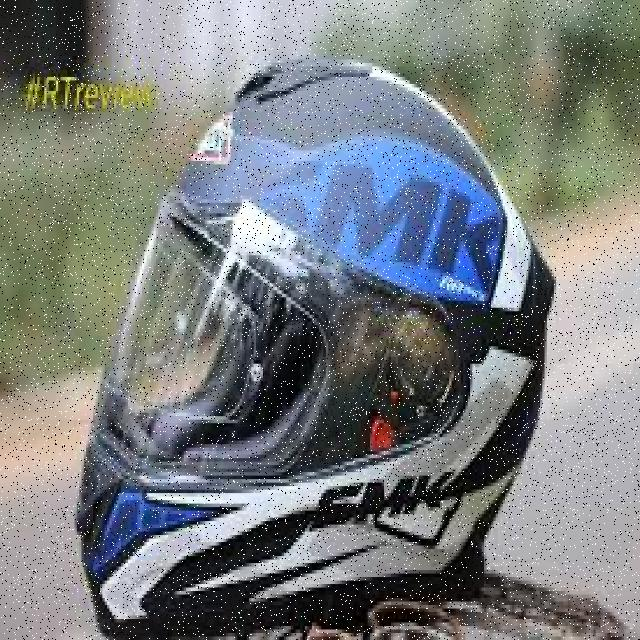Helmet: (76, 62, 554, 635)
